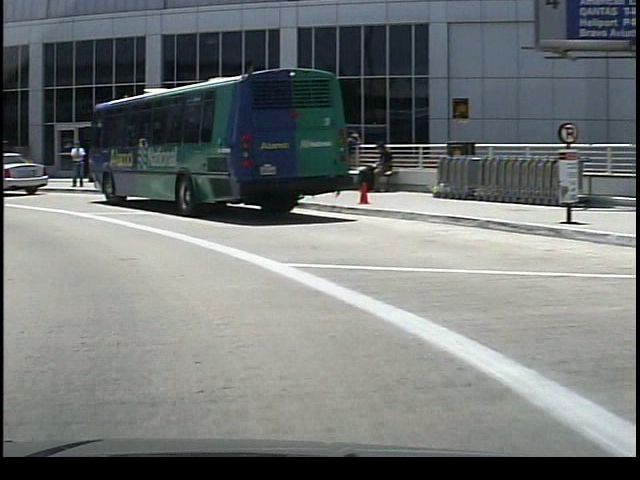person: (358, 138, 392, 198), (63, 140, 84, 191)
